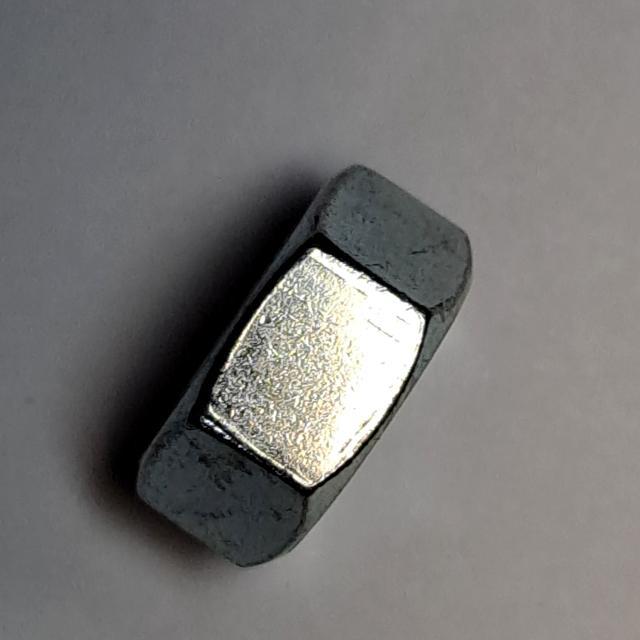Side_Excellent: (117, 149, 491, 587)
